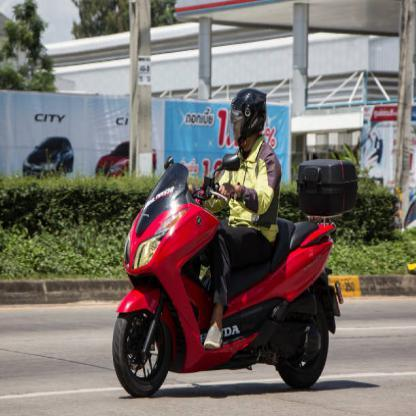Motorcycle: (102, 152, 340, 399)
